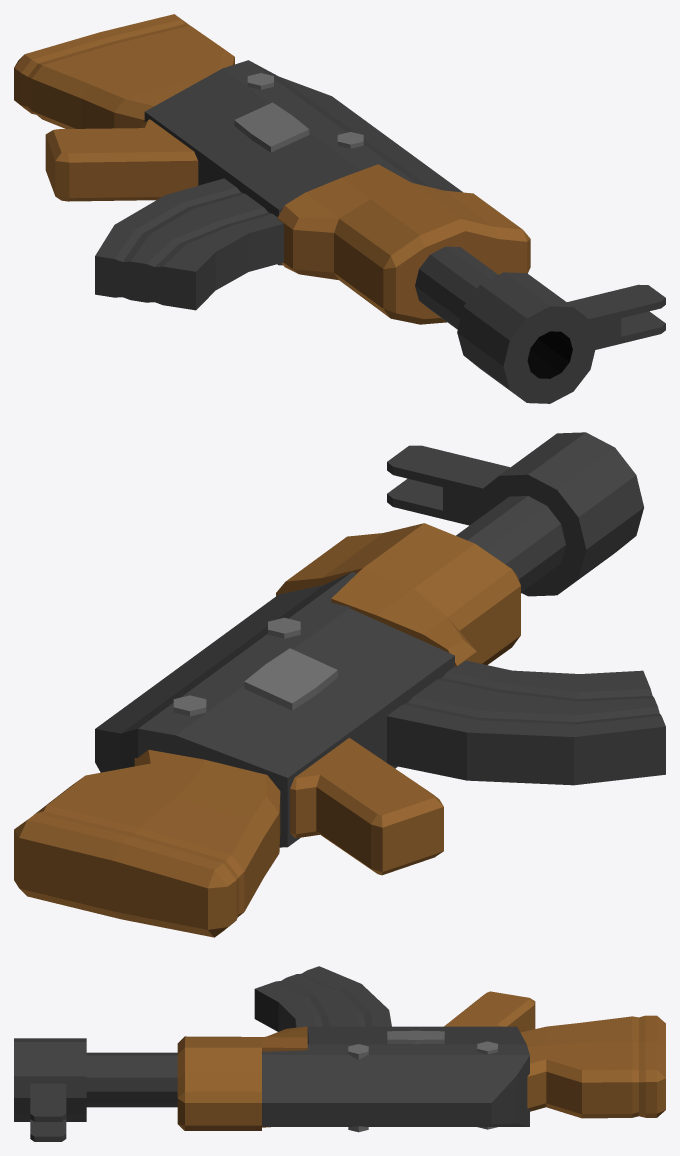
3 renders of one model, top to bottom at view 1: azimuth 30°, elevation 25°; view 2: azimuth 150°, elevation 25°; view 3: azimuth 270°, elevation 25°, orthographic. The views are drawn at different scales.
Parts seen in each view (by area): view 1: 6; view 2: 6; view 3: 6.
Part boxes in pixels (x1=…): 6: x1=14, y1=14, x2=665, y2=403; 6: x1=14, y1=432, x2=665, y2=937; 6: x1=14, y1=966, x2=665, y2=1141.
Size of the model in its own units: 1.82 by 0.9754 by 0.2457.
